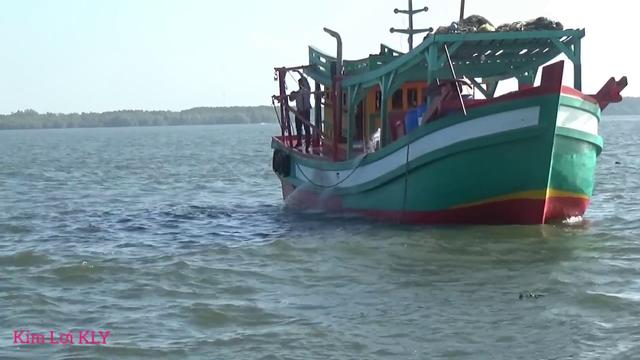Ship: (261, 23, 630, 238)
